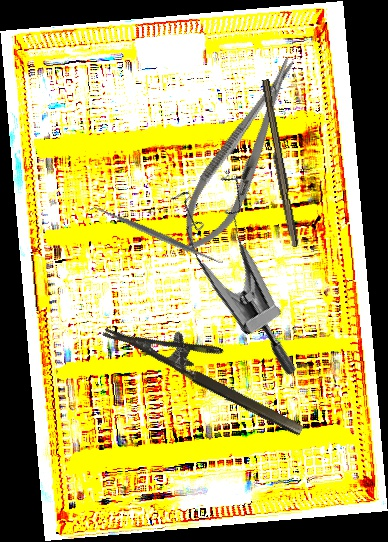Needle Holder: (165, 47, 315, 266), (102, 296, 318, 439)
Scalpel Handle: (256, 78, 302, 249)
Spatula Surgical: (87, 198, 226, 272)
Speculum: (141, 155, 362, 380)
